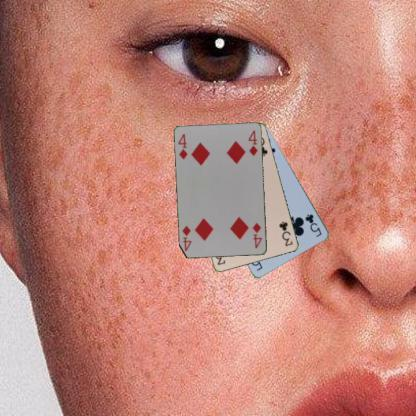3c: (276, 218, 294, 248)
4d: (176, 131, 190, 161), (250, 220, 263, 250)
5c: (303, 211, 323, 238)
